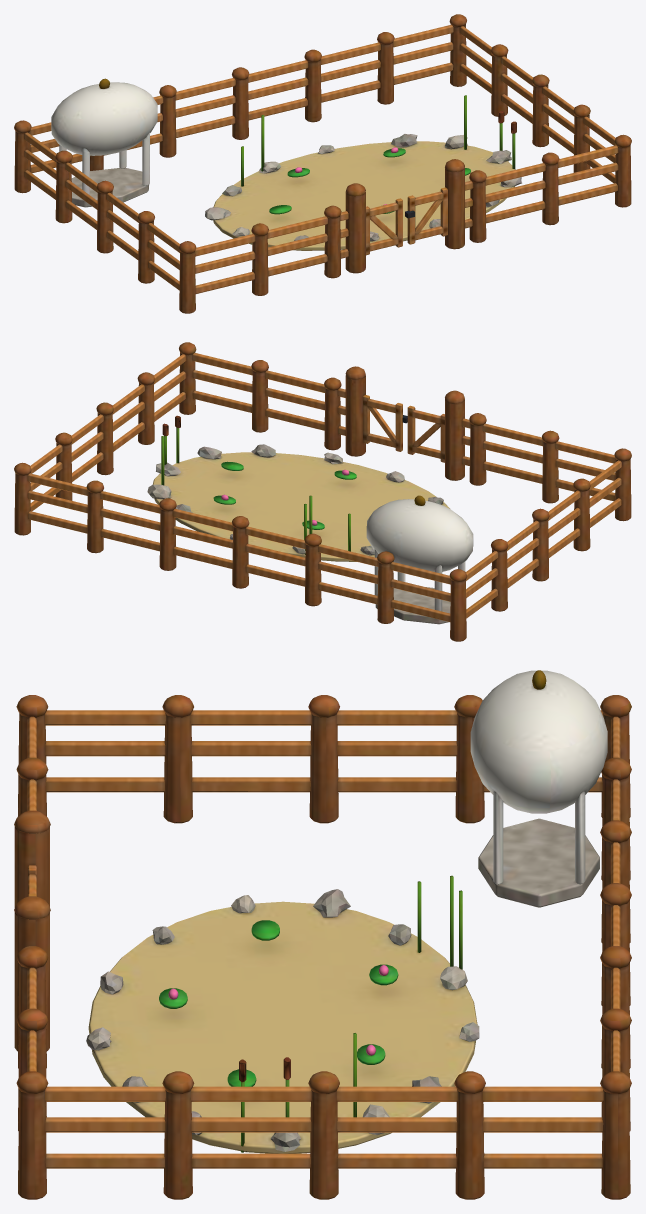
File: swan_lake.glb
The picture shows the model from 3 angles, top to bottom: view 1: azimuth 30°, elevation 25°; view 2: azimuth 150°, elevation 25°; view 3: azimuth 270°, elevation 25°; orthographic projection. The views are drawn at different scales.
Parts seen in each view (by area): view 1: swan_lake, gate1, gate0; view 2: swan_lake, gate1, gate0; view 3: swan_lake.
Boxes of the visible parts, bbox=[...] form: swan_lake: bbox=[14, 14, 631, 313]; gate1: bbox=[405, 187, 447, 244]; gate0: bbox=[366, 198, 402, 255]; swan_lake: bbox=[14, 342, 631, 641]; gate1: bbox=[363, 394, 407, 451]; gate0: bbox=[407, 405, 444, 462]; swan_lake: bbox=[14, 670, 631, 1199].
Size of the model in its own units: 3 by 0.715 by 2.01.
Materials: 1 (1 with a texture image).
